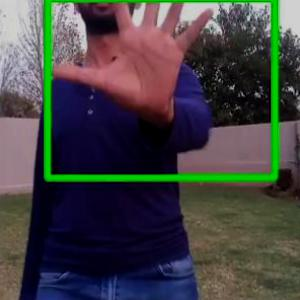follow_hand: (51, 0, 218, 127)
